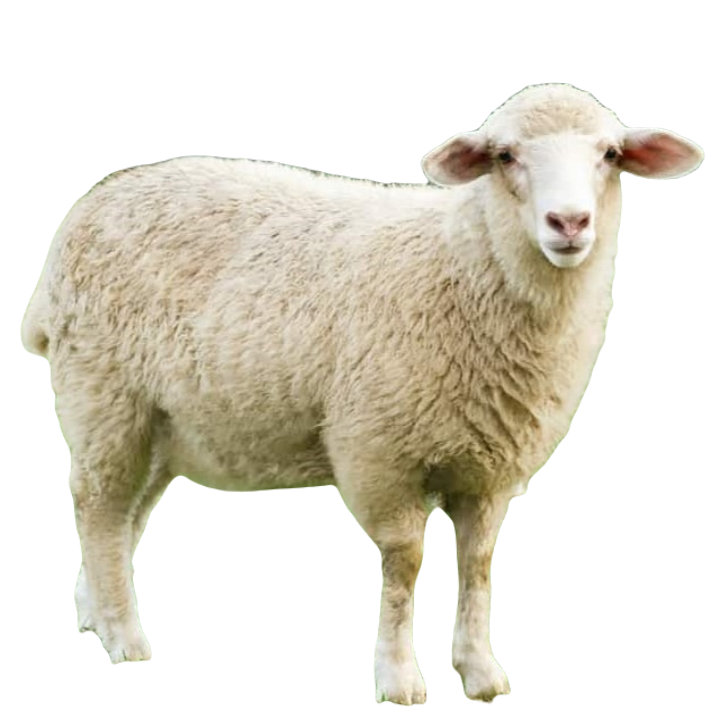Sheep: (14, 78, 711, 707)
